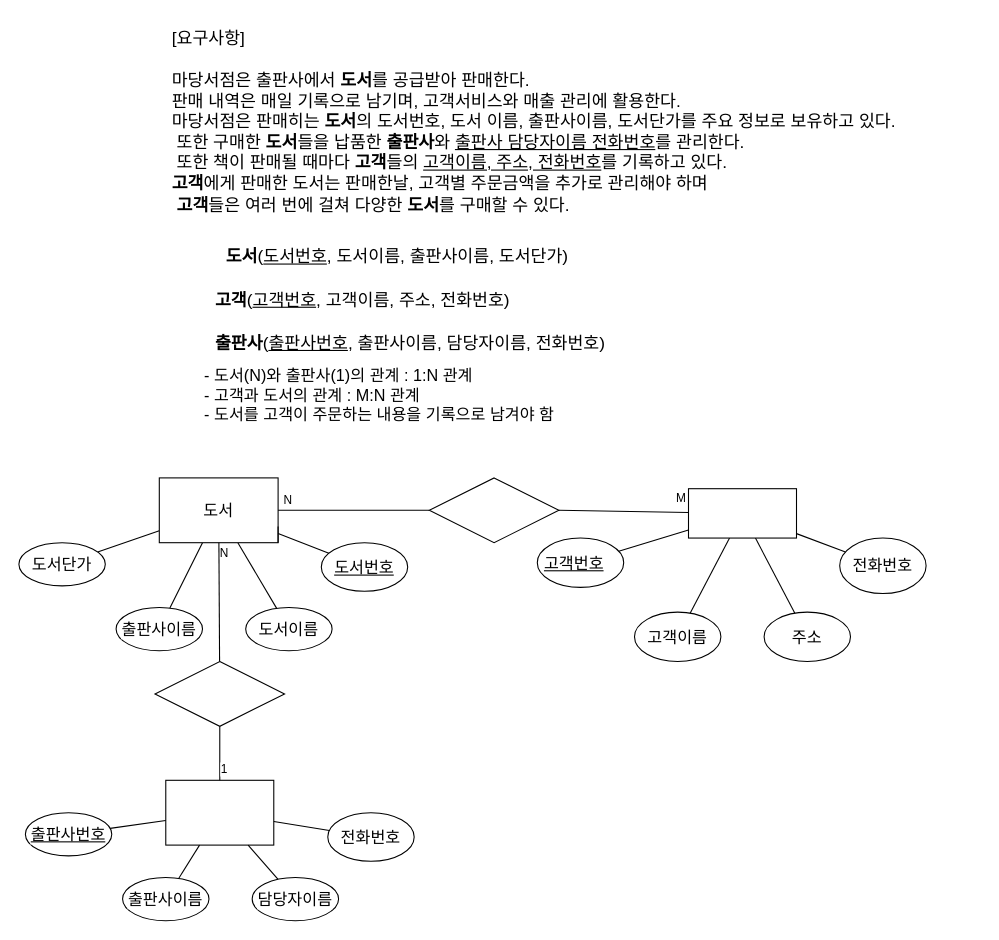
This 999x940 diagram has some shape labels left out. Each missing label, with the centre of its shape:
"고객" goes at (x=741, y=513).
"납품" goes at (x=219, y=693).
"주문" goes at (x=493, y=510).
"출판사" goes at (x=219, y=812).
